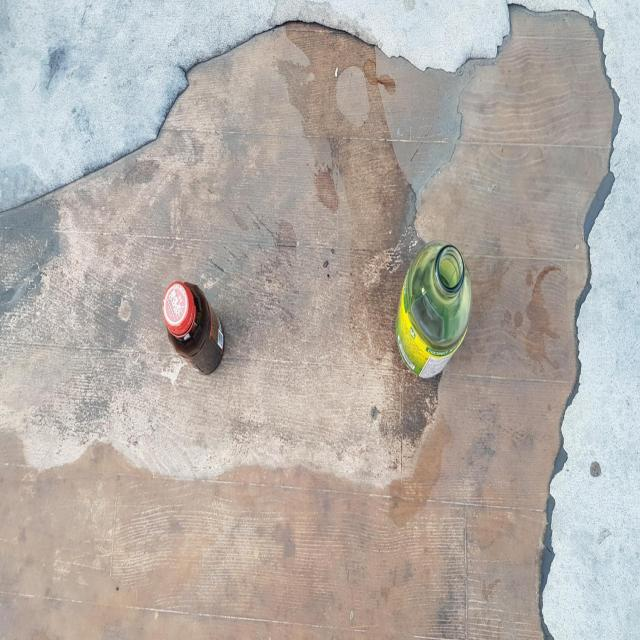glass: (396, 241, 472, 378), (162, 280, 224, 373)
